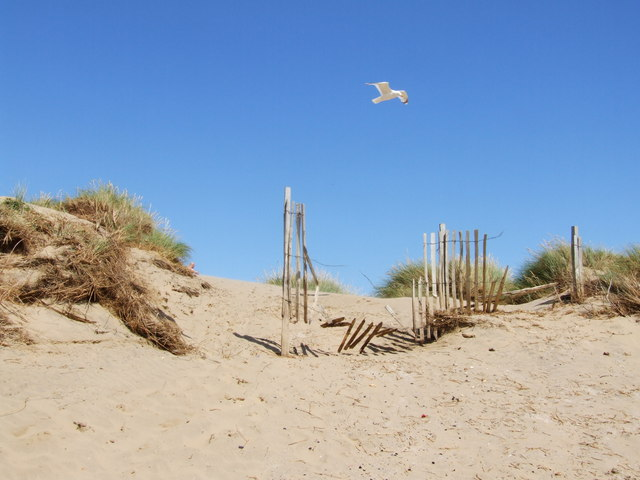bird: (365, 81, 411, 106)
